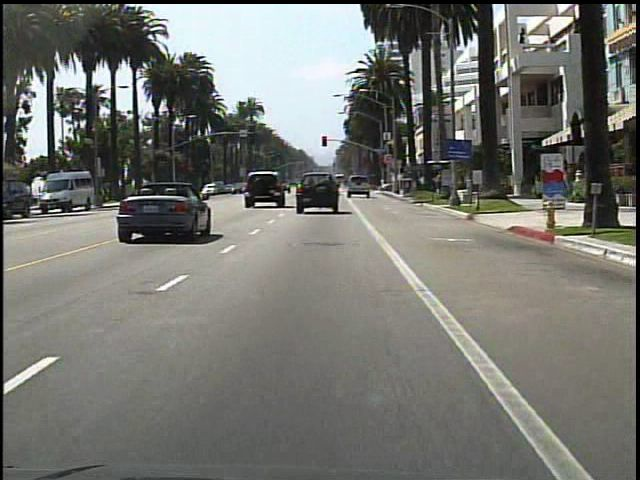person: (549, 170, 566, 211)
